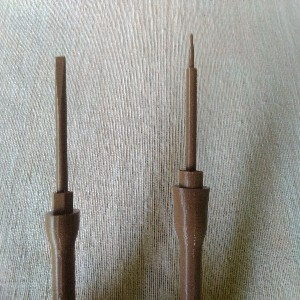obeng: (43, 55, 81, 300)
solder: (170, 33, 211, 300)
